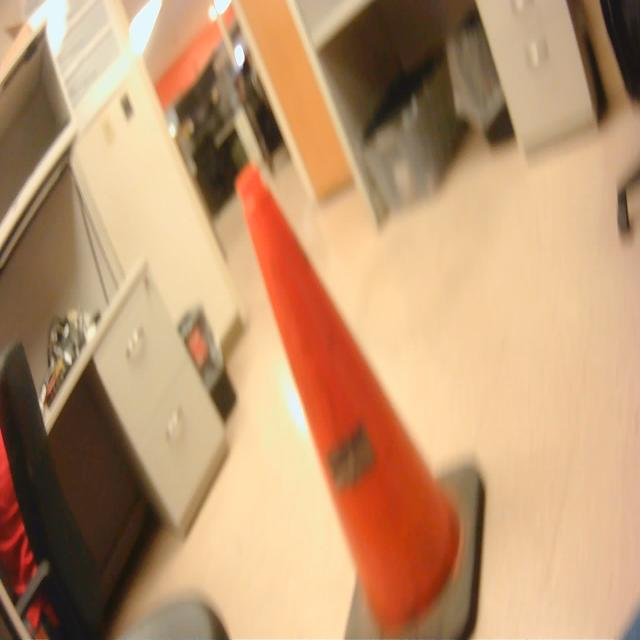traffic cone: (232, 156, 491, 640)
